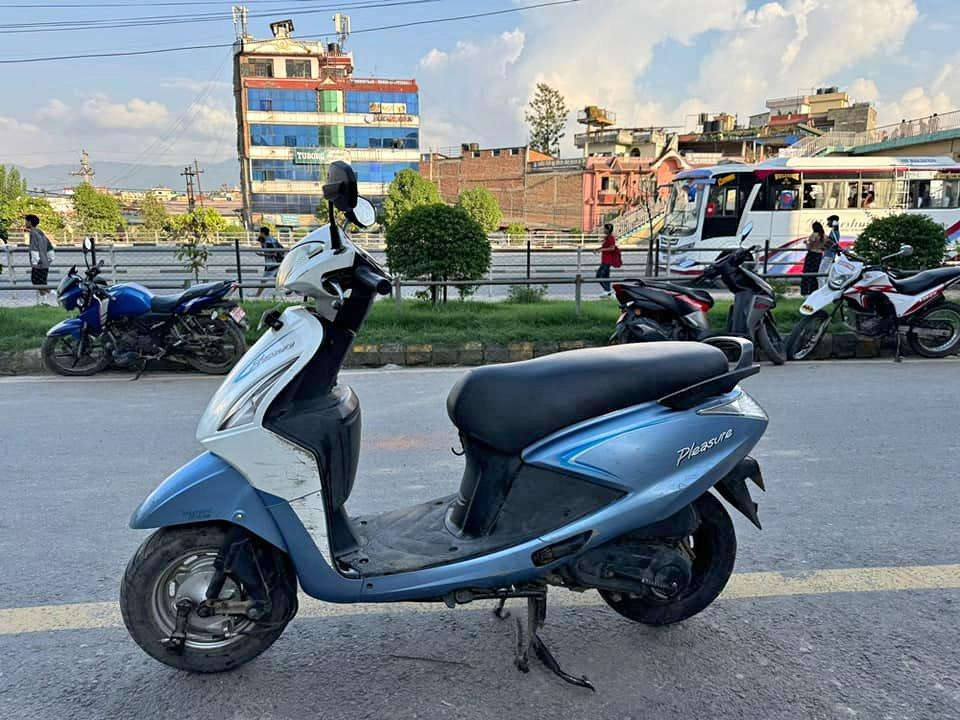bike: (44, 259, 254, 381), (789, 248, 960, 369)
scooter: (112, 163, 772, 682), (604, 231, 788, 374)
